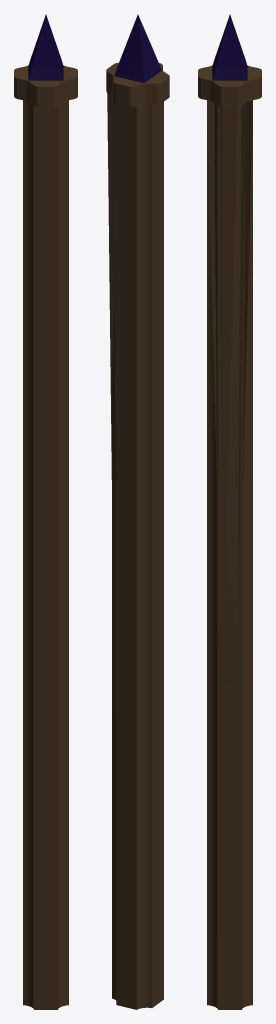
Rendered from BGBuilding4.fbx.
3 renders of one model, left to right at view 1: azimuth 90°, elevation 25°; view 2: azimuth 150°, elevation 25°; view 3: azimuth 270°, elevation 25°, orthographic.
Parts seen in each view (by area): view 1: BG1; view 2: BG1; view 3: BG1.
Part boxes in pixels (x1,y1,x2,y2): BG1: [14, 14, 77, 1009]; BG1: [106, 14, 169, 1009]; BG1: [198, 14, 261, 1009].
Bounding box in the file's own units: 12.41 × 212 × 12.41.
